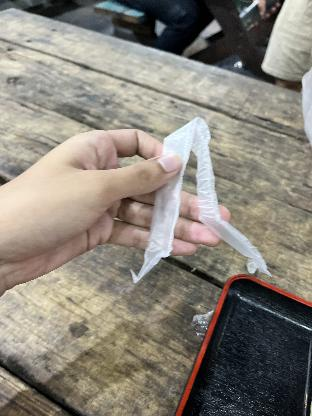Others: (129, 118, 269, 286)
